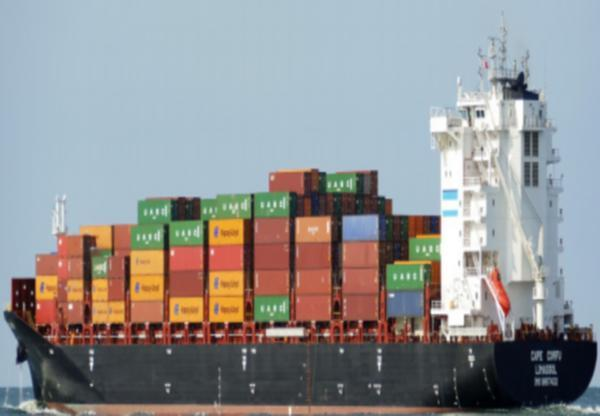Container Ship: (2, 9, 598, 414)
